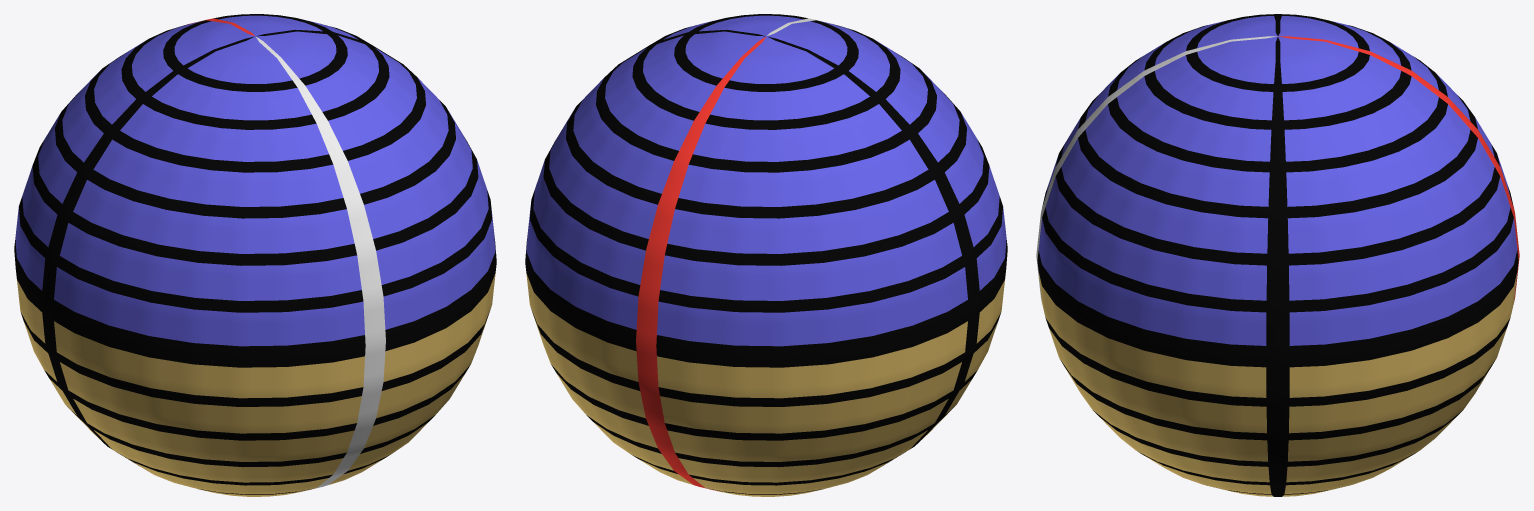
The model's file is Gimbal.fbx.
3 views of the same model, side by side, from view 1: azimuth 30°, elevation 25°; view 2: azimuth 150°, elevation 25°; view 3: azimuth 270°, elevation 25° (orthographic).
Parts seen in each view (by area): view 1: Sphere; view 2: Sphere; view 3: Sphere.
Boxes of the visible parts, box(x1,y1,x2,y2) form: Sphere: box(14, 14, 496, 496); Sphere: box(525, 14, 1007, 496); Sphere: box(1036, 14, 1519, 496).
Size of the model in its own units: 200 by 200 by 200.
